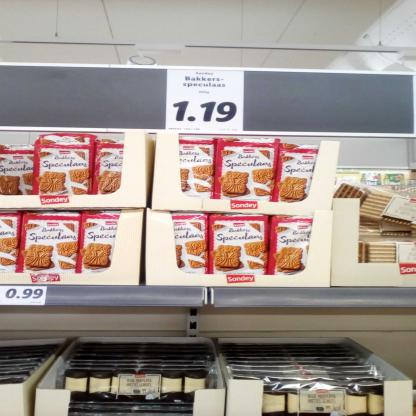prtg: (166, 70, 245, 132), (1, 286, 49, 307)
